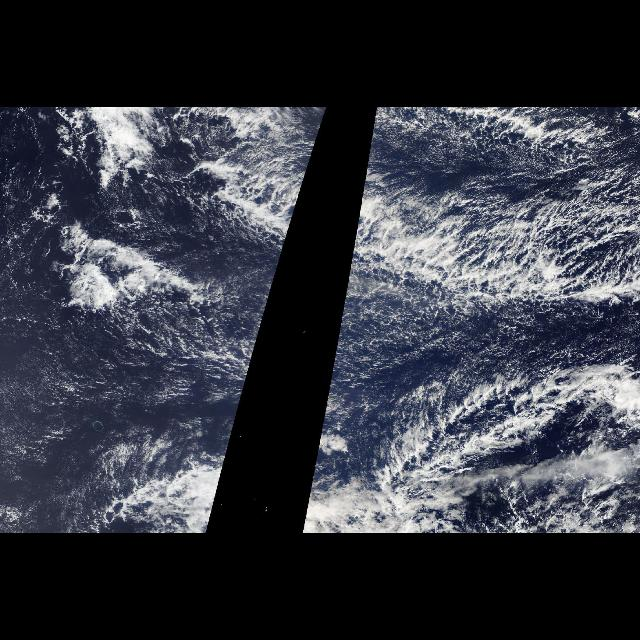Fish: (371, 120, 621, 496)
